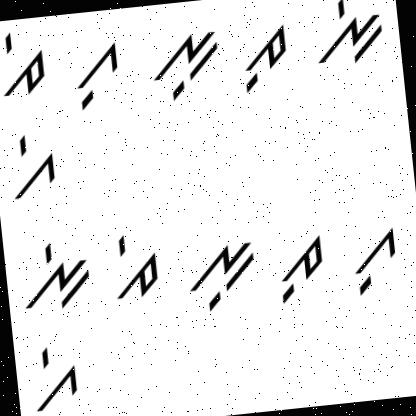ge: (27, 338, 90, 416), (1, 125, 61, 204)
gu: (346, 219, 404, 305), (66, 37, 124, 111)
nge: (16, 236, 94, 318), (312, 0, 388, 69)
ngu: (178, 231, 262, 317), (144, 22, 226, 104)
te: (106, 224, 166, 304), (0, 25, 48, 101)
tu: (274, 228, 331, 312), (234, 22, 295, 98)
